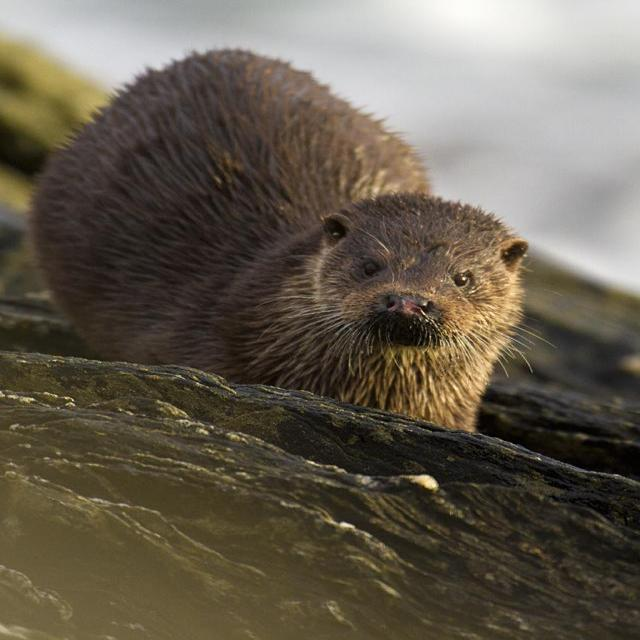otter: (39, 53, 523, 420)
